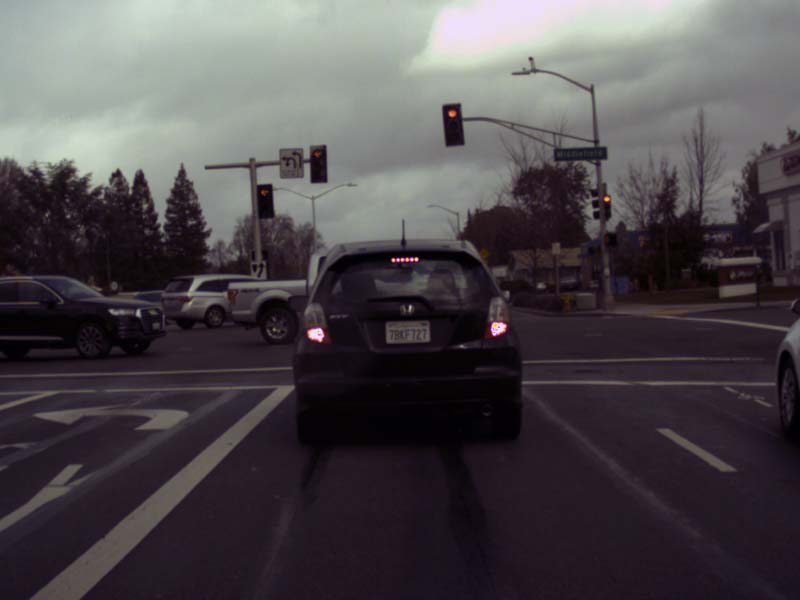Red: (441, 103, 464, 144), (309, 144, 327, 183), (257, 184, 273, 217), (602, 194, 611, 216)
